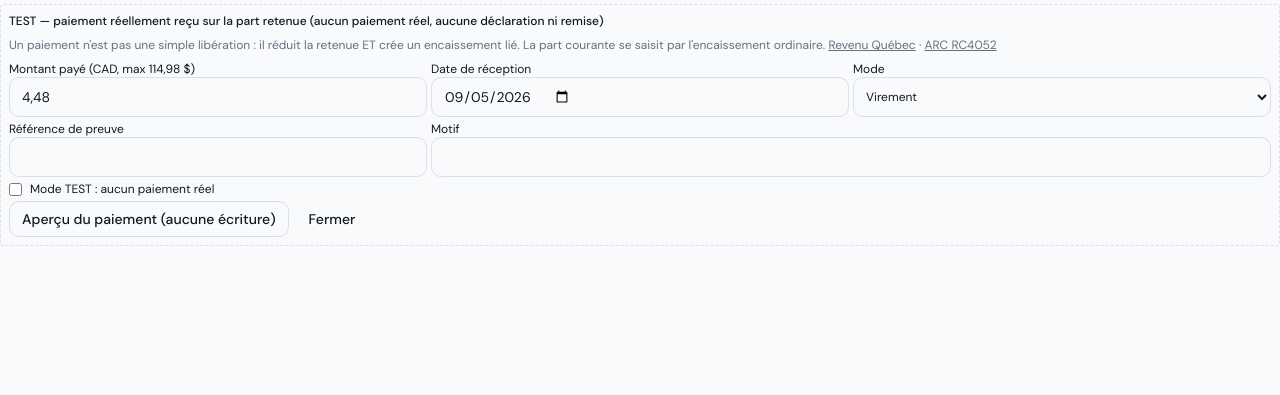
Test case: FIN-09C2B2A — écran simulé › erreur déterministe (transaction annulée) : demande effacée, saisie corrigible; P0409 : saisie conservée + rechargement
Earlier steps of the test are not shown.
Later steps or results of the test are not shown.
Type "VIR-1" into the field labelled "Référence de preuve" at coordinates (218, 157), box [9,137,427,177]
Type "Retenue" into the field named "Motif du paiement" at coordinates (851, 157), box [431,137,1271,177]
Click the checkbox labelled "Mode TEST : aucun paiement réel" at coordinates (16, 189), box [9,182,22,196]
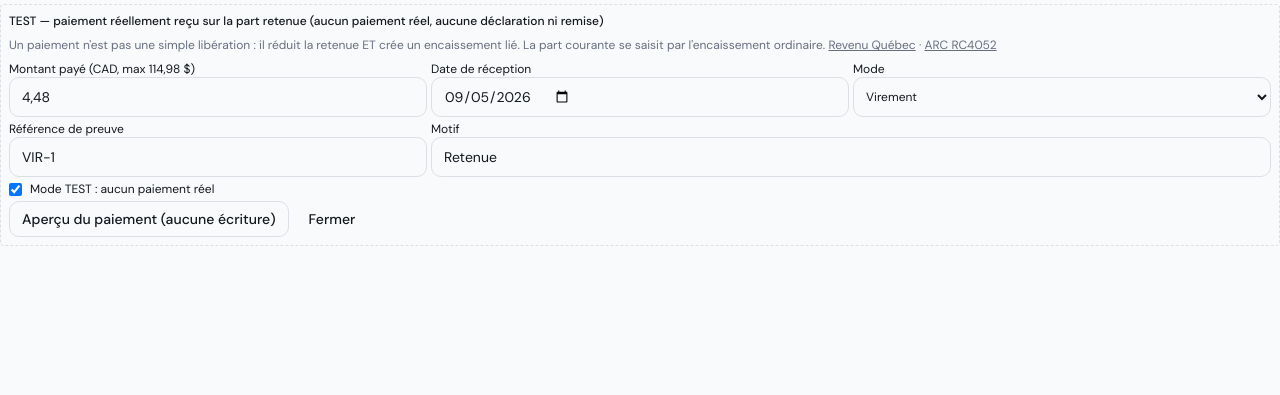
Click the button "Aperçu du paiement (aucune écriture)" at coordinates (149, 219), box [9,201,288,237]
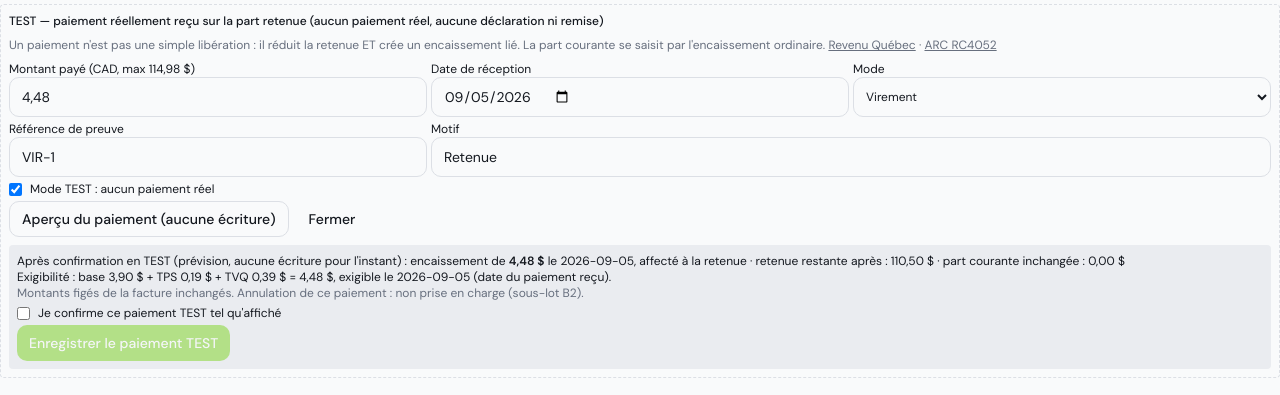
Expected: the element with test id "cpay-preview" is shown, [9,245,1271,369]
Click the checkbox labelled "Je confirme ce paiement TEST tel qu'affiché" at coordinates (24, 313), box [17,306,30,320]
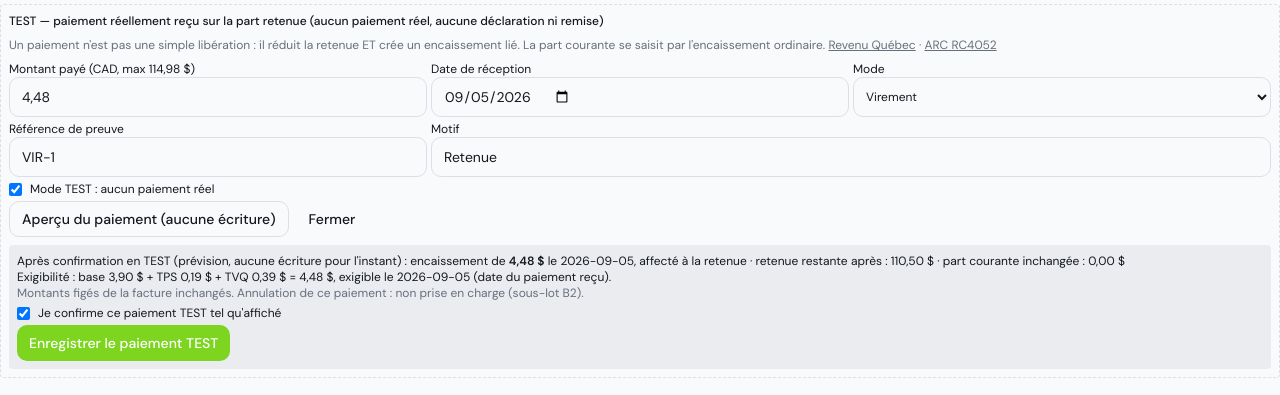
Click the button "Enregistrer le paiement TEST" at coordinates (124, 343), box [17,325,230,361]
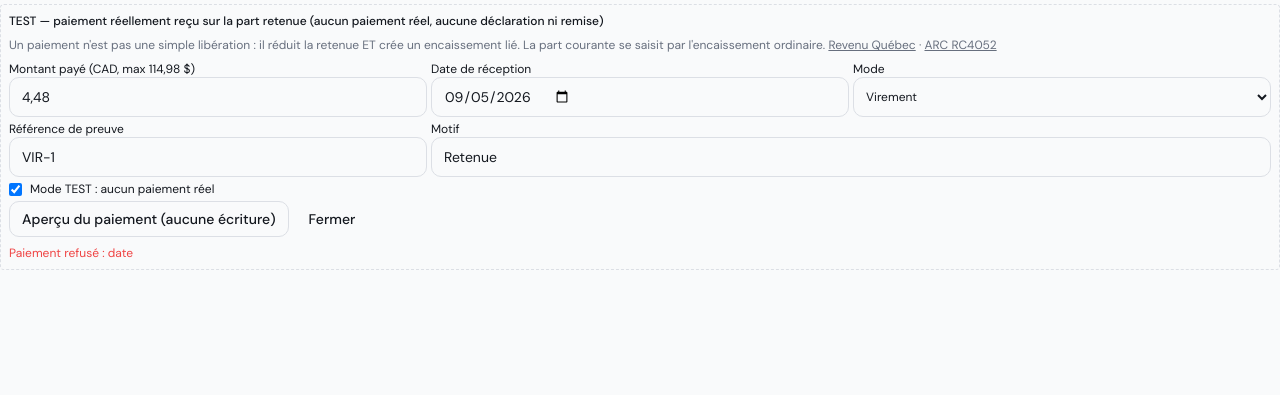
Expected: the text "Paiement refusé : date" is shown, [9,245,133,261]
Replace the text in the field labelled "Référence de preuve" with "VIR-2" at coordinates (218, 157), box [9,137,427,177]
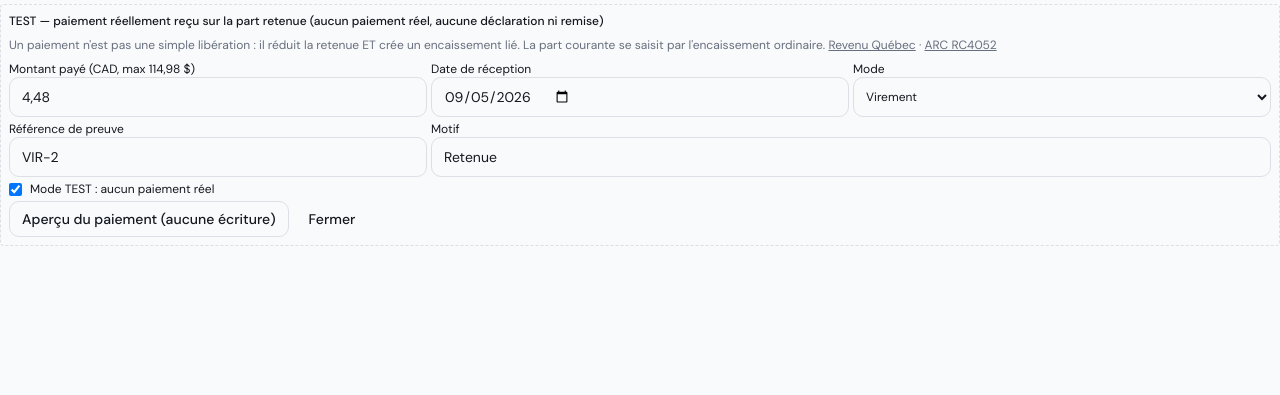
Click the button "Aperçu du paiement (aucune écriture)" at coordinates (149, 219), box [9,201,288,237]
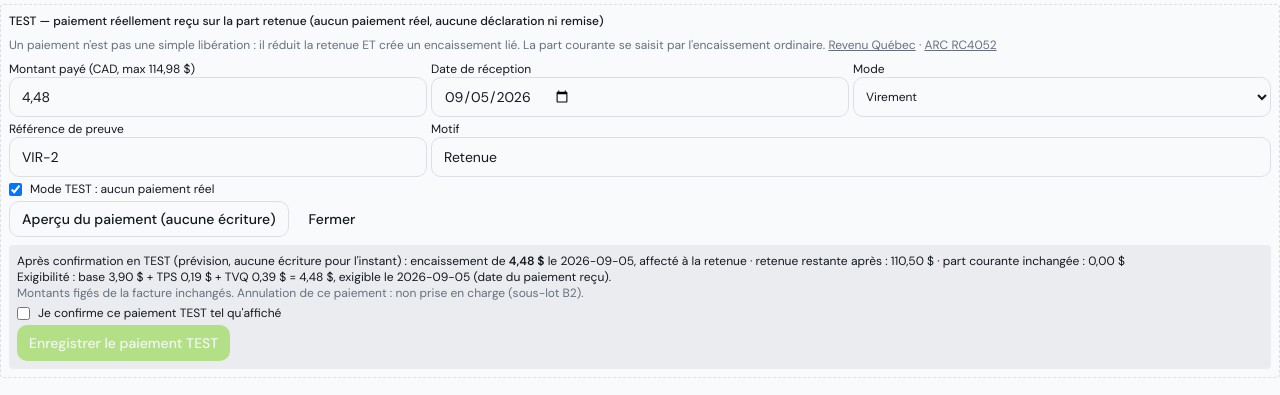
Expected: the element with test id "cpay-preview" is shown, [9,245,1271,369]
